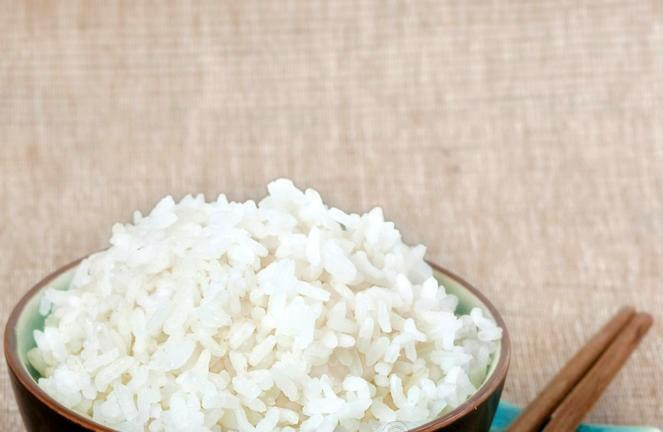WhiteRice: (26, 178, 505, 432)
